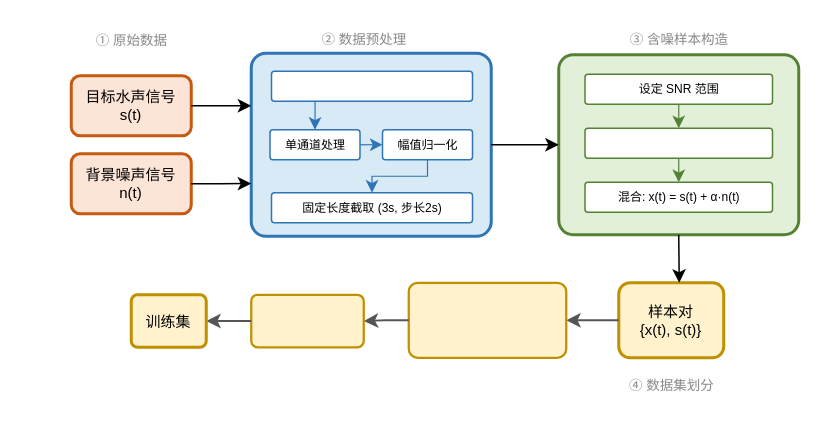
Image size: 831x425. Some labels were removed from this diagram. The centre of each missing label's shape, as x and y in pixels:
"测试集 (×3) 已知/未知船型/噪声" goes at pixel 487 319.
"计算噪声缩放系数 α" goes at pixel 678 142.
"采样率统一 (16 kHz)" goes at pixel 371 85.
"验证集 (10%)" goes at pixel 306 320.
